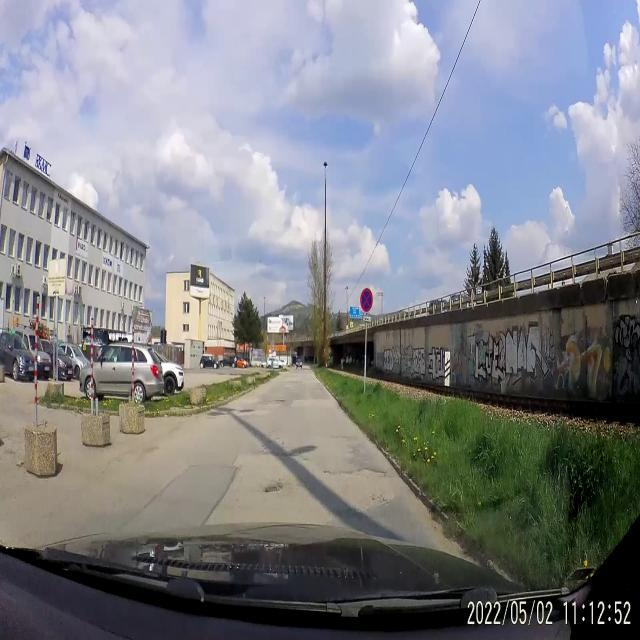Pothole: (352, 457, 384, 487), (264, 393, 289, 415), (261, 478, 286, 498)
